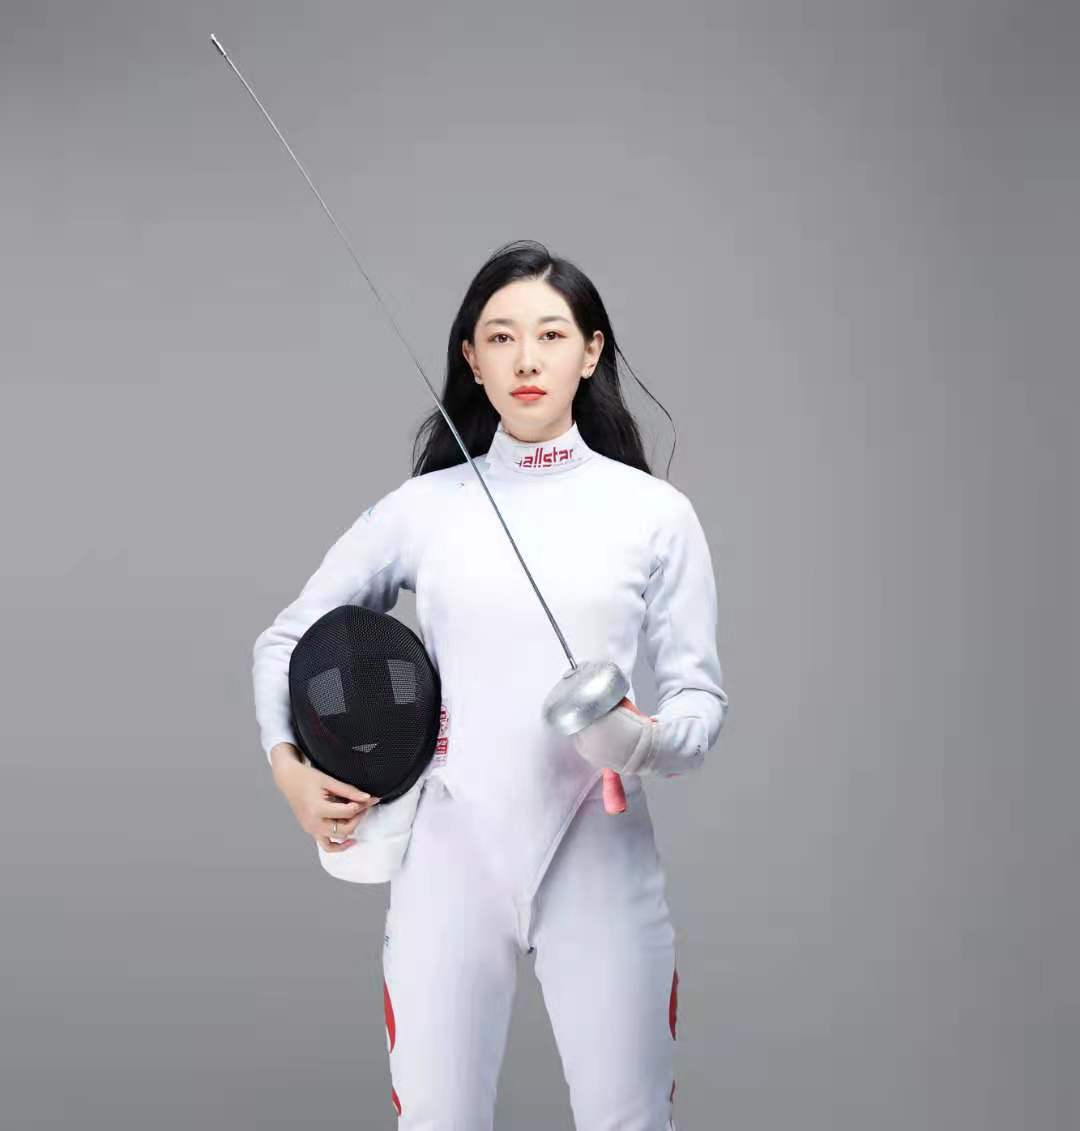person: (251, 224, 738, 1131)
